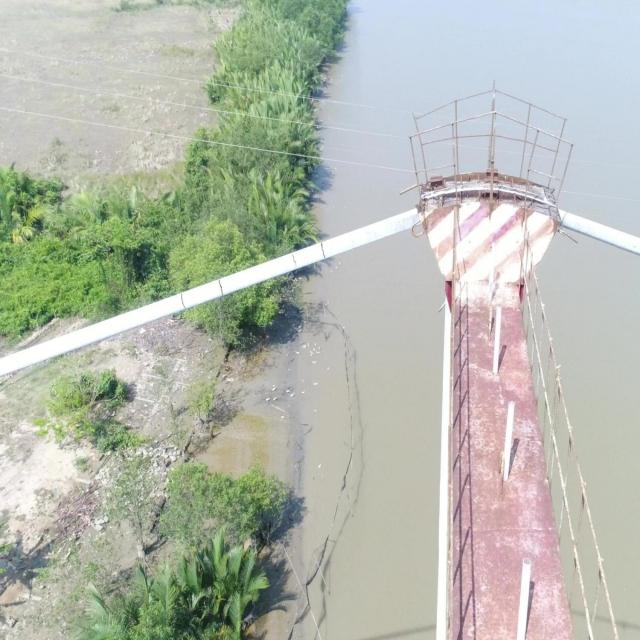crack: (319, 241, 326, 258), (218, 279, 224, 296), (181, 294, 186, 309), (292, 254, 297, 267)
